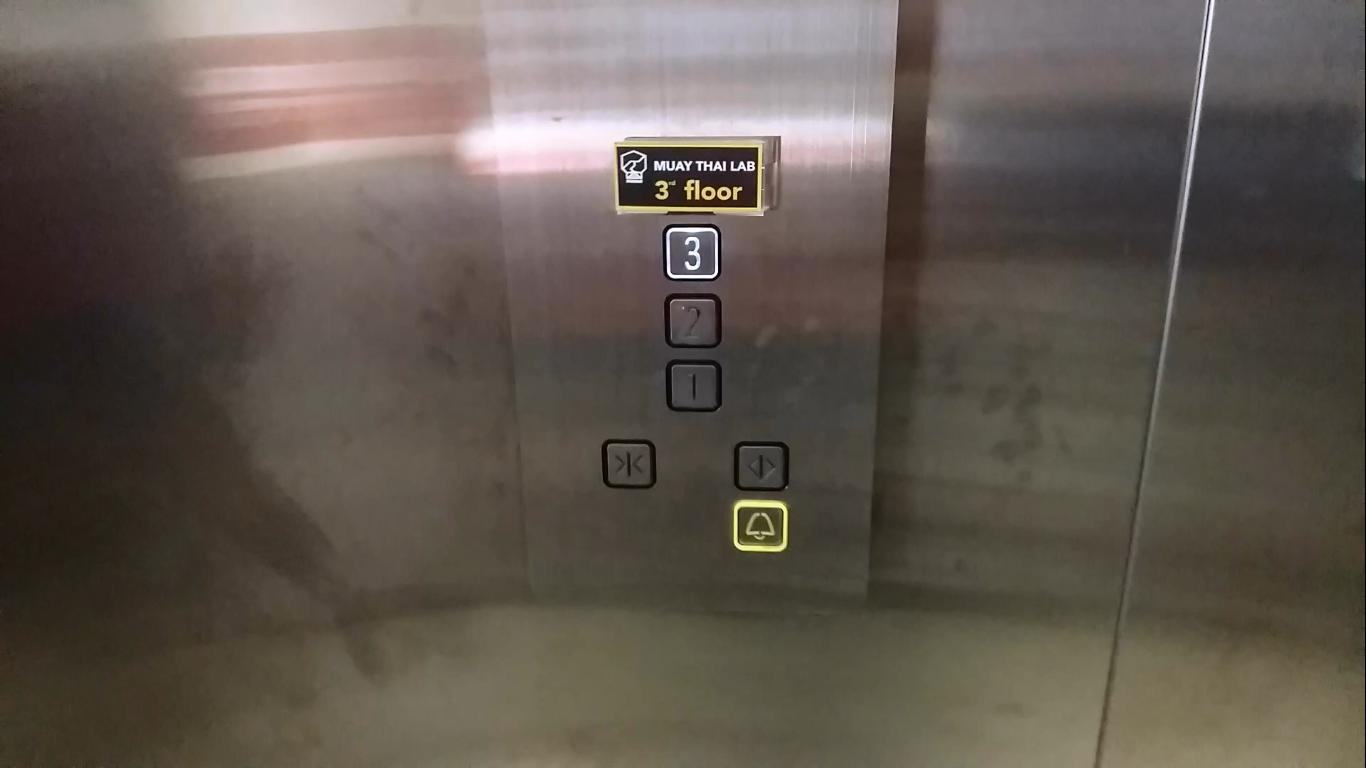1: (664, 357, 725, 414)
2: (663, 292, 724, 351)
3: (659, 220, 724, 283)
alarm: (732, 498, 789, 554)
close: (599, 437, 659, 492)
open: (732, 438, 790, 496)
